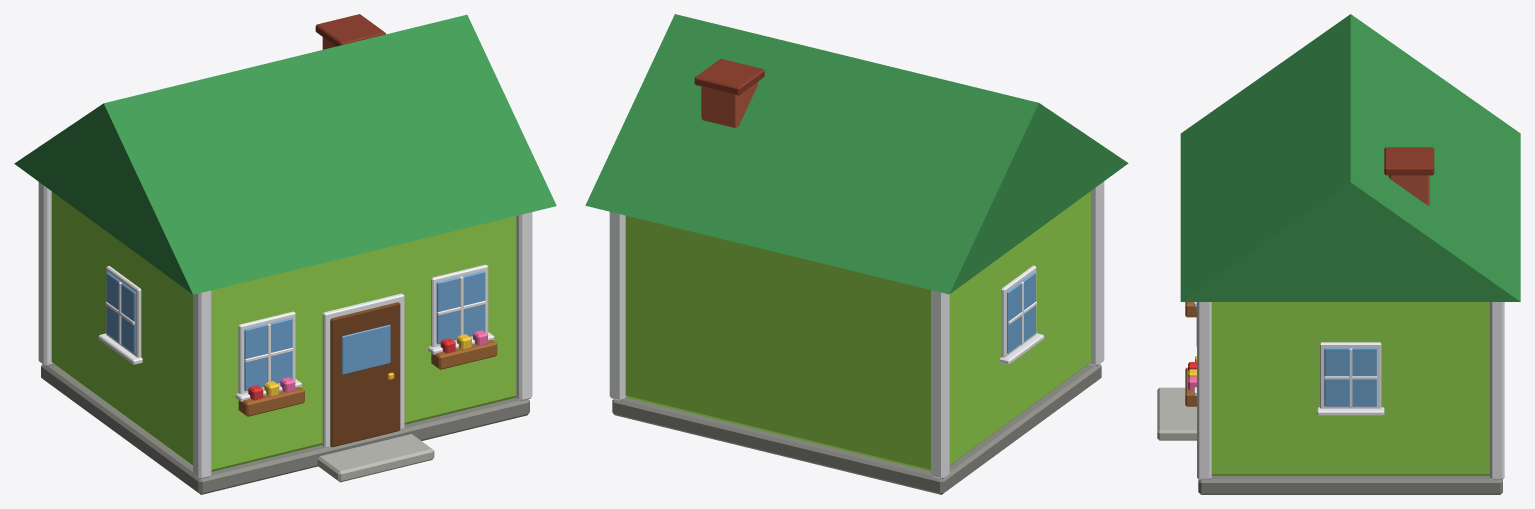
Rendered from GreenHouse.fbx.
3 views of the same model, side by side, from view 1: azimuth 30°, elevation 25°; view 2: azimuth 150°, elevation 25°; view 3: azimuth 270°, elevation 25° (orthographic). The views are drawn at different scales.
Parts seen in each view (by area): view 1: GreenHouse; view 2: GreenHouse; view 3: GreenHouse.
Boxes of the visible parts, x1,y1,x2,y2 form: GreenHouse: (14, 14, 556, 494); GreenHouse: (585, 14, 1128, 494); GreenHouse: (1157, 14, 1520, 494).
Size of the model in its own units: 13.6 by 12.1 by 12.4.
1 material, 1 textured.
